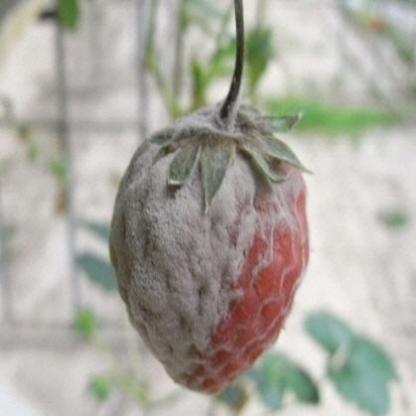Strawberry_Gray_Mold: (108, 73, 317, 397)
